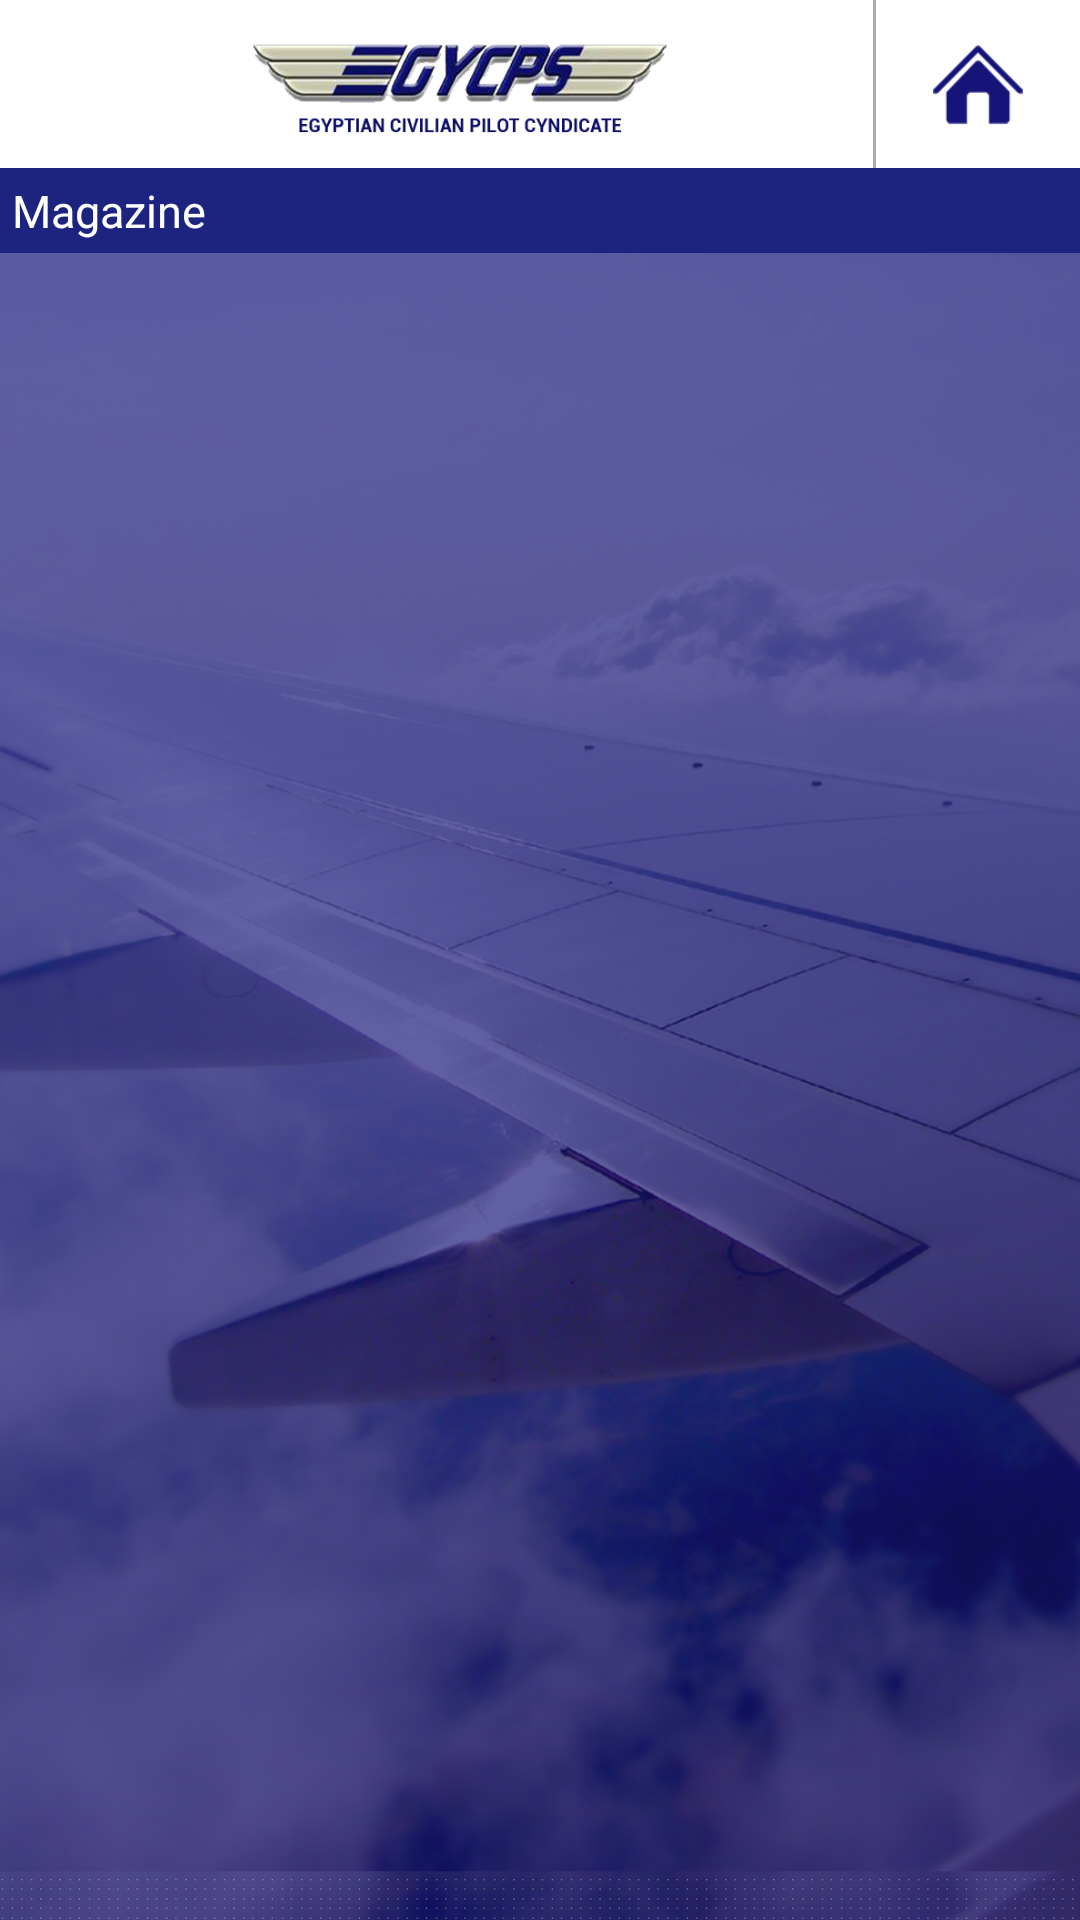

Named icons in this screenshot (1080px x 1920px) and their centers, [x,y]:
home: [978,84]
